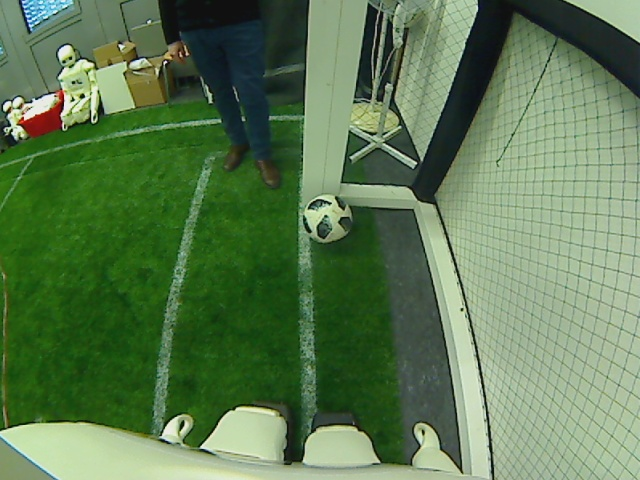ball: (303, 193, 355, 242)
